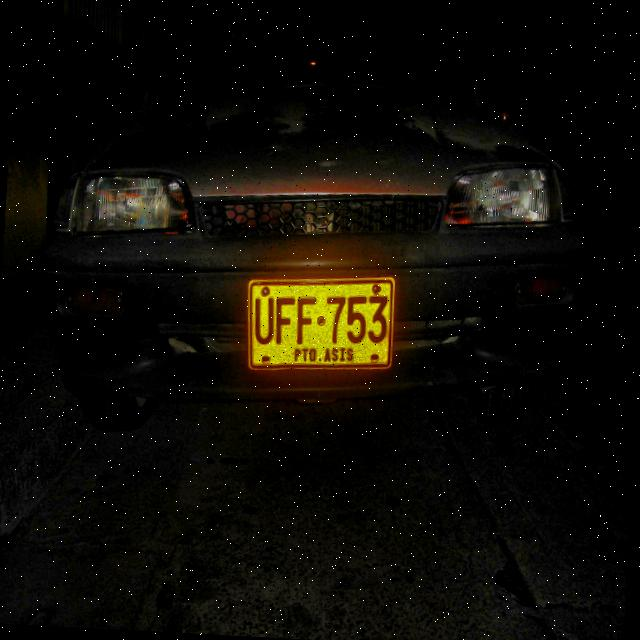3: (366, 294, 389, 346)
5: (346, 293, 368, 345)
7: (325, 295, 346, 346)
F: (294, 296, 318, 346), (274, 297, 296, 345)
U: (254, 297, 275, 347)
